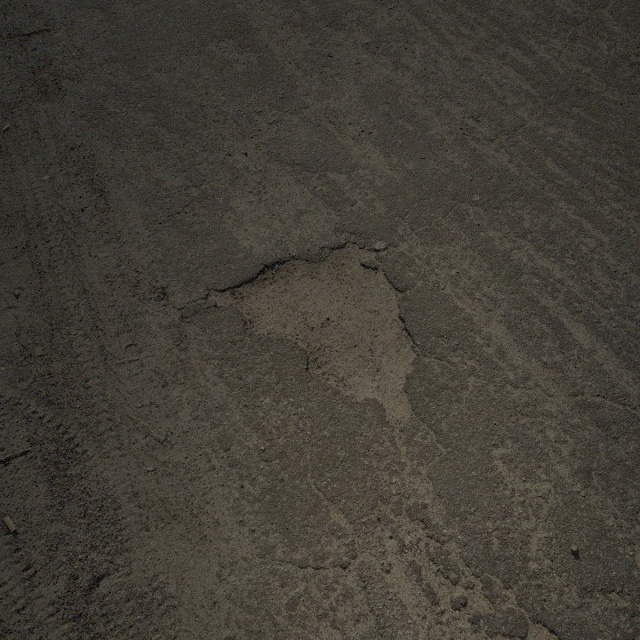pothole: (202, 238, 424, 421)
